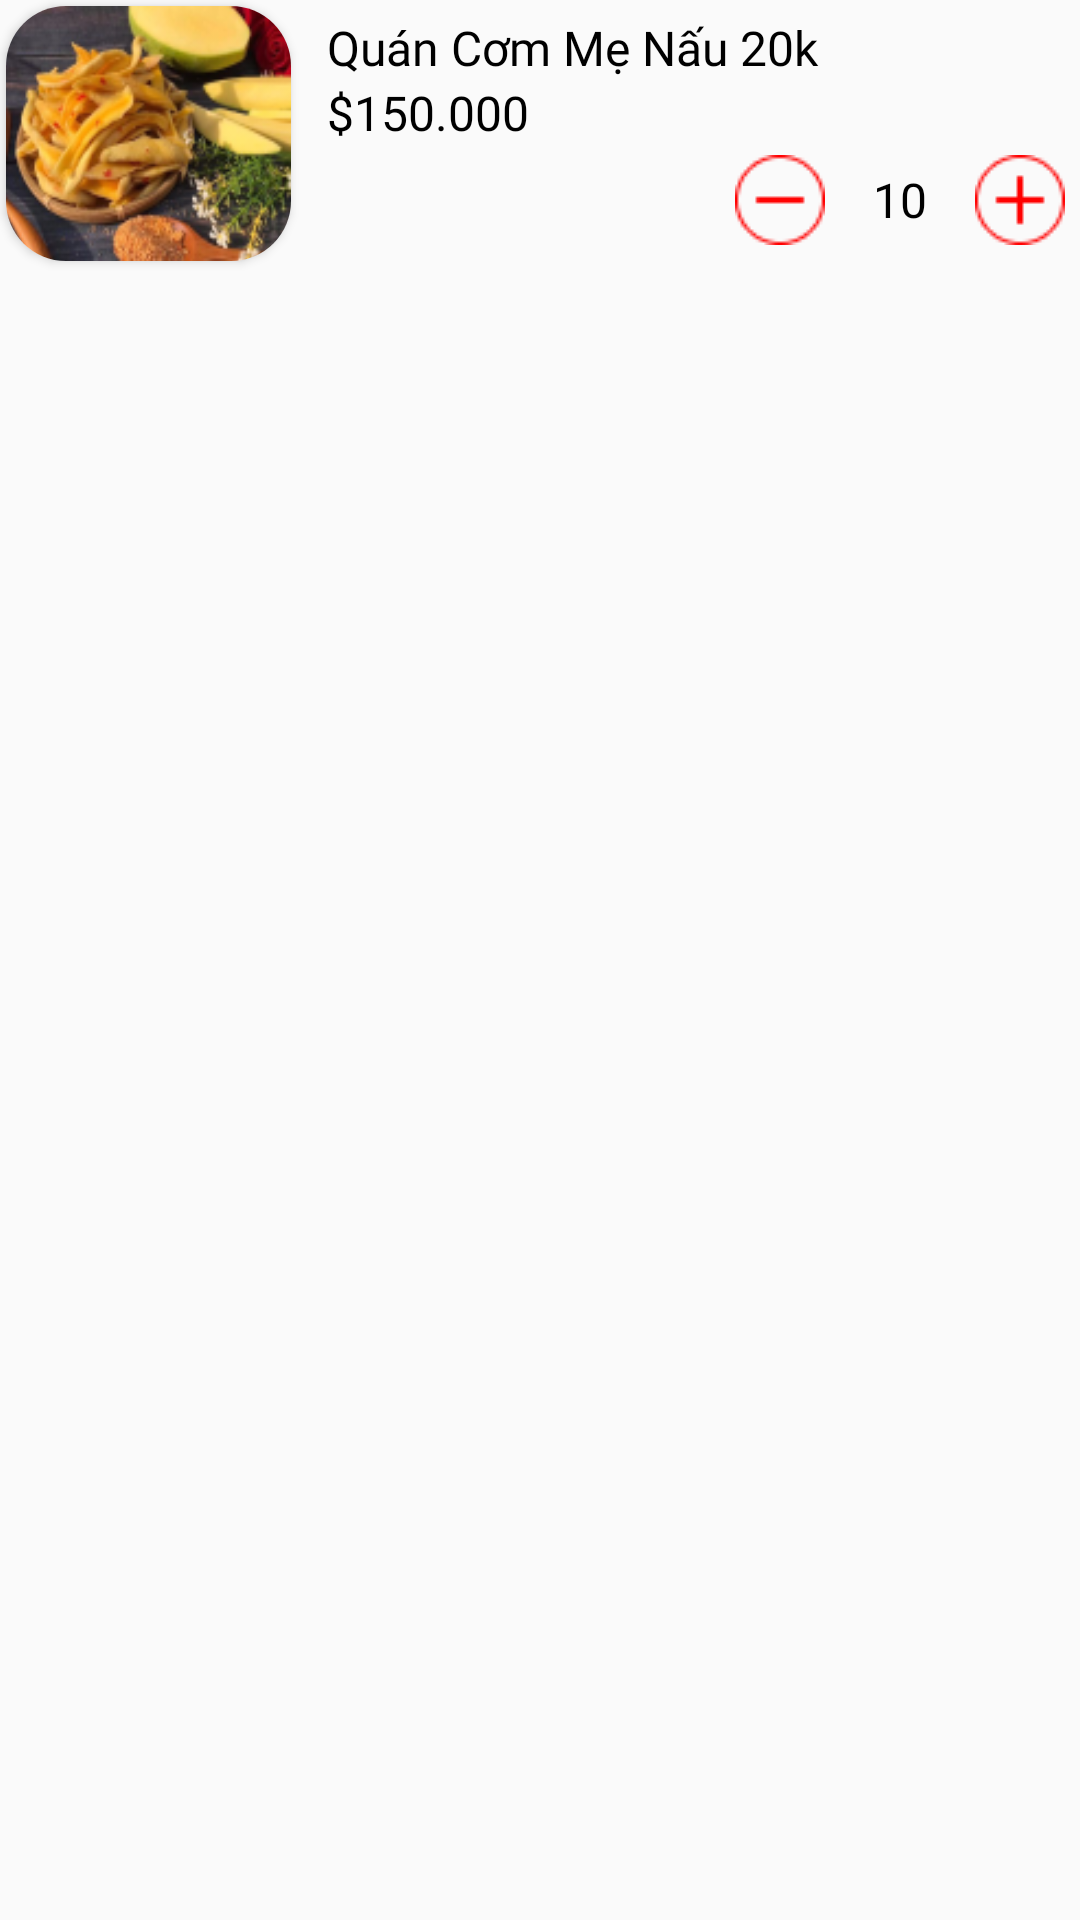

Icon bounding boxes for this 1080x1920 phone screenshot, format (x1, y1, x2, y2):
decrease: (735, 155, 825, 245)
increase: (975, 155, 1065, 245)
